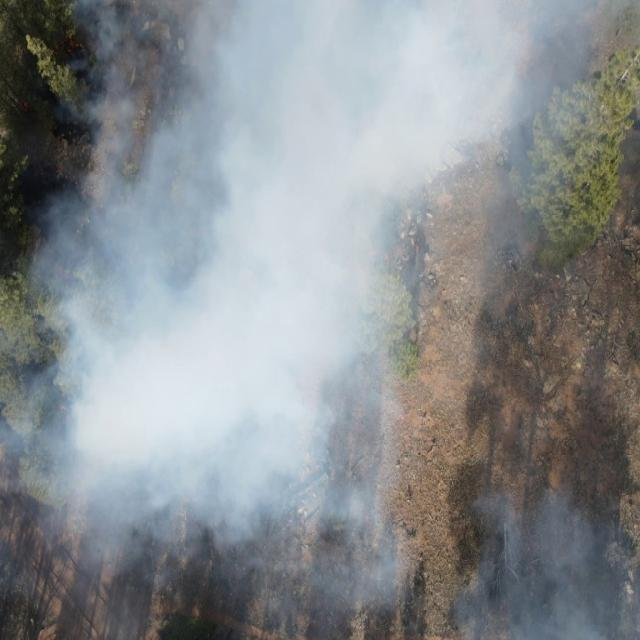fire: (366, 246, 400, 262), (66, 39, 84, 50), (54, 161, 66, 175), (22, 100, 30, 109)
smoke: (40, 0, 640, 365), (40, 365, 418, 640), (454, 486, 640, 640), (0, 239, 41, 640)
